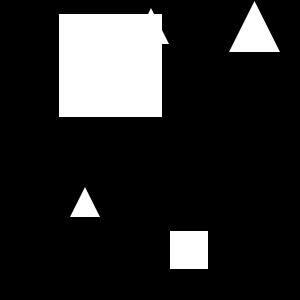circle: (59, 14, 162, 117), (170, 231, 208, 269)
triangle: (229, 1, 280, 52), (133, 8, 169, 44), (70, 187, 100, 217)
